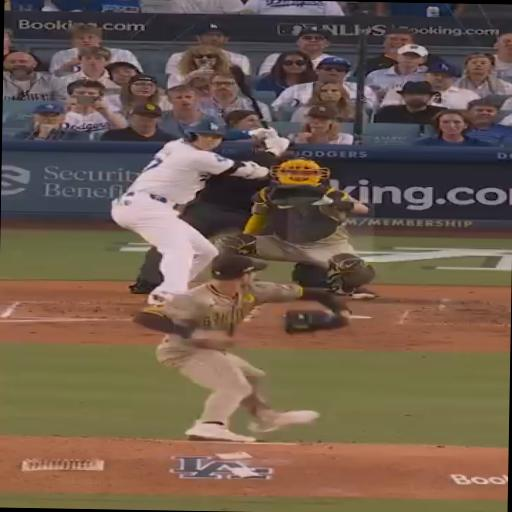bat: (228, 64, 275, 126)
